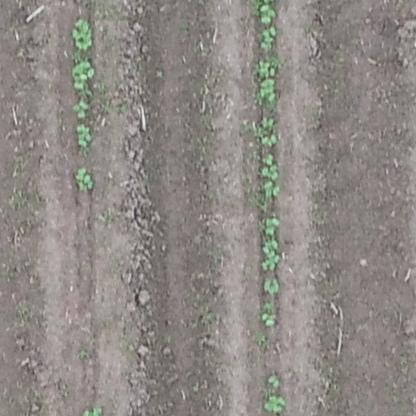vc: (69, 17, 95, 51), (258, 240, 286, 271), (72, 58, 98, 90), (260, 276, 286, 299), (72, 165, 94, 191), (74, 124, 95, 150), (257, 79, 279, 103), (263, 393, 288, 413), (258, 4, 278, 25), (262, 216, 282, 236), (261, 182, 285, 198), (257, 59, 278, 77), (259, 310, 281, 327), (71, 99, 90, 118), (260, 28, 279, 46), (262, 164, 282, 180), (260, 132, 281, 146), (260, 114, 278, 129), (267, 374, 284, 389), (262, 152, 276, 163)
